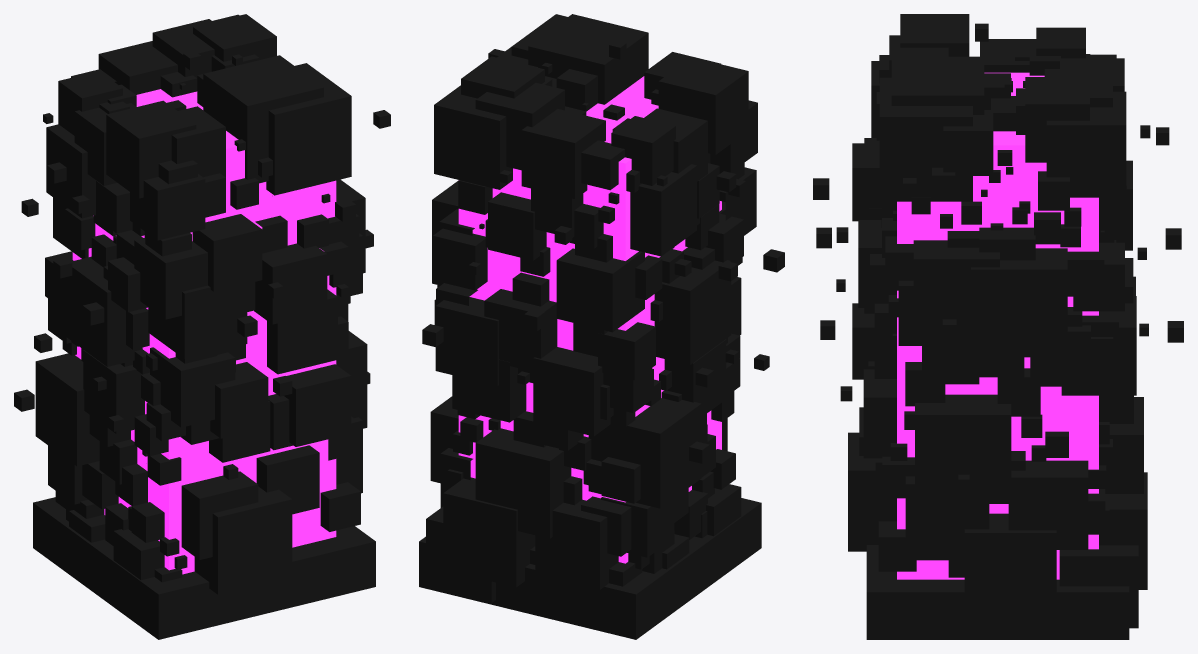
The model's file is glitch cube.fbx.
3 renders of one model, left to right at view 1: azimuth 30°, elevation 25°; view 2: azimuth 150°, elevation 25°; view 3: azimuth 270°, elevation 25°, orthographic. The views are drawn at different scales.
Parts seen in each view (by area): view 1: Platform, building.001, big cube.016, big cube.017, big cube.009, big cube.045, big cube.006, big cube.022, big cube.023, big cube.030, big cube.010, big cube.024 (+55 smaller); view 2: Platform, building.001, big cube.045, big cube.089, big cube.072, big cube.009, big cube.030, big cube.053, big cube.006, big cube.081, big cube.076, big cube.084 (+51 smaller); view 3: building.001, Platform, big cube.050, big cube.060, big cube.052, big cube.016, big cube.053, big cube.063, big cube.058, big cube.009, big cube.051, big cube.007 (+45 smaller).
Part boxes in pixels (x1,y1,x2,y2): Platform: [33, 497, 375, 639]; building.001: [72, 89, 336, 574]; big cube.016: [266, 63, 351, 195]; big cube.017: [194, 486, 292, 594]; big cube.009: [203, 55, 323, 183]; big cube.045: [35, 353, 99, 466]; big cube.006: [106, 100, 196, 198]; big cube.022: [148, 284, 247, 358]; big cube.023: [254, 243, 327, 324]; big cube.030: [66, 256, 142, 366]; big cube.010: [284, 364, 351, 446]; big cube.024: [150, 347, 235, 427]; Platform: [419, 498, 761, 639]; building.001: [458, 76, 721, 563]; big cube.045: [588, 398, 701, 508]; big cube.089: [475, 428, 571, 538]; big cube.072: [443, 477, 535, 587]; big cube.009: [528, 14, 648, 104]; big cube.030: [654, 260, 731, 364]; big cube.053: [434, 85, 512, 189]; big cube.006: [658, 57, 748, 154]; big cube.081: [556, 248, 644, 332]; big cube.076: [521, 109, 605, 198]; big cube.084: [533, 347, 610, 436]; building.001: [897, 72, 1098, 579]; Platform: [866, 545, 1129, 639]; big cube.050: [915, 394, 1011, 502]; big cube.060: [971, 248, 1067, 357]; big cube.052: [964, 513, 1056, 616]; big cube.016: [879, 77, 972, 201]; big cube.053: [1046, 91, 1126, 197]; big cube.063: [1008, 460, 1088, 549]; big cube.058: [913, 240, 999, 337]; big cube.009: [891, 56, 984, 114]; big cube.051: [905, 476, 989, 560]; big cube.007: [1025, 77, 1089, 162].
Size of the model in its own units: 721 by 1196 by 734.
